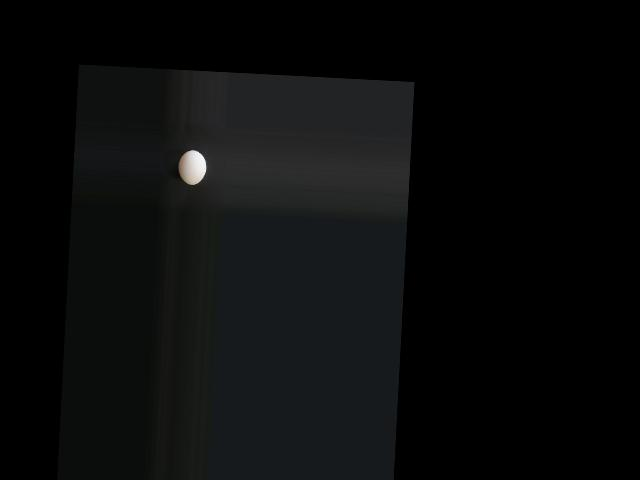egg: (177, 150, 206, 186)
